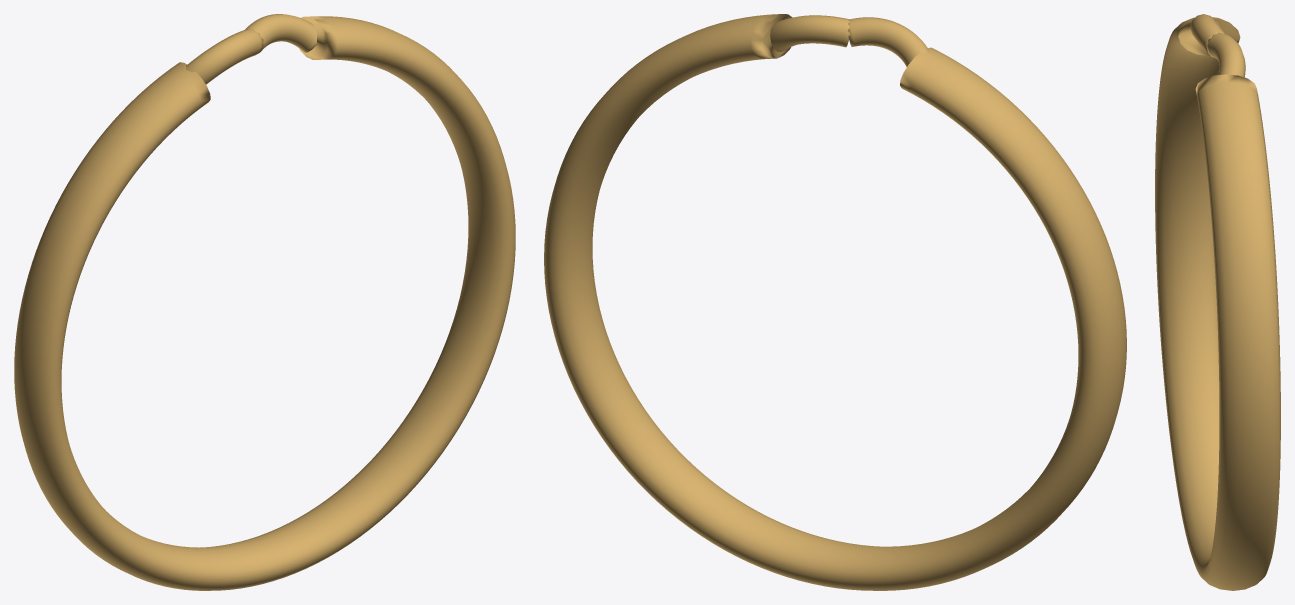
Rendered from bands-bypass.glb.
3 views of the same model, side by side, from view 1: azimuth 30°, elevation 25°; view 2: azimuth 150°, elevation 25°; view 3: azimuth 270°, elevation 25° (orthographic). The views are drawn at different scales.
Visible parts, largest first — view 1: Band, Bypass head bridge, Bypass head bridge.001; view 2: Band, Bypass head bridge.001, Bypass head bridge; view 3: Band, Bypass head bridge.001, Bypass head bridge.
Part boxes in pixels (x1,y1,x2,y2): Band: [14, 16, 515, 590]; Bypass head bridge: [186, 29, 263, 84]; Bypass head bridge.001: [245, 14, 316, 52]; Band: [544, 14, 1126, 590]; Bypass head bridge.001: [770, 15, 850, 52]; Bypass head bridge: [847, 17, 929, 66]; Band: [1155, 17, 1280, 590]; Bypass head bridge.001: [1206, 32, 1245, 77]; Bypass head bridge: [1190, 14, 1225, 54].
Bounding box in the file's own units: 19.6 × 19.86 × 4.3.
